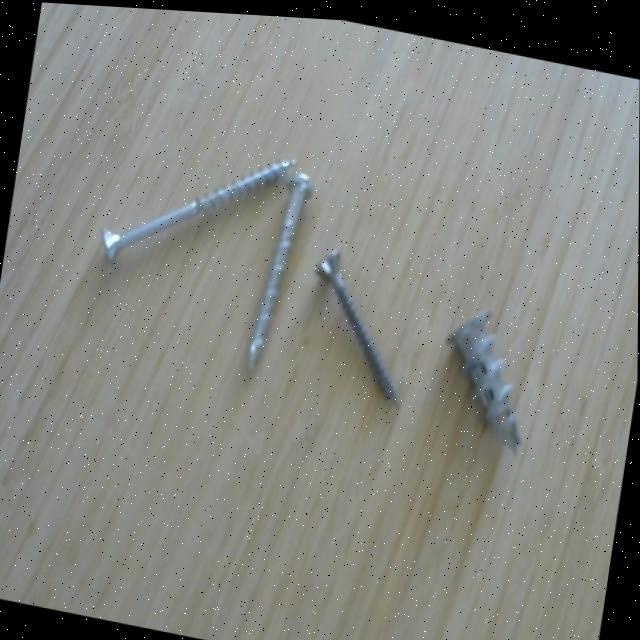Black screw: (292, 233, 424, 408)
Long screw: (92, 113, 298, 296)
Medium screw: (241, 158, 319, 397)
Short screw: (428, 292, 548, 460)
